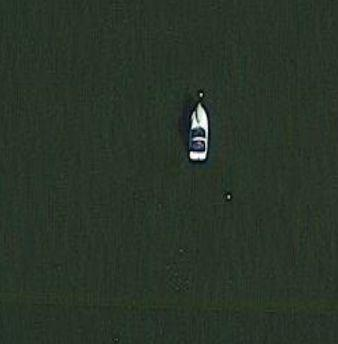Ships: (177, 88, 222, 167)
